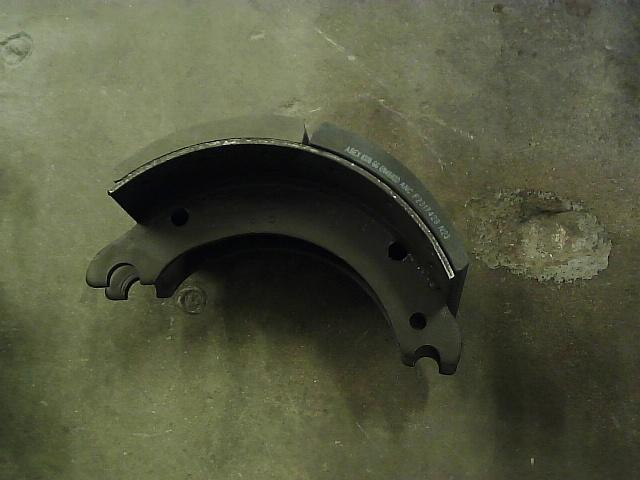brake-shoes: (83, 112, 470, 377)
